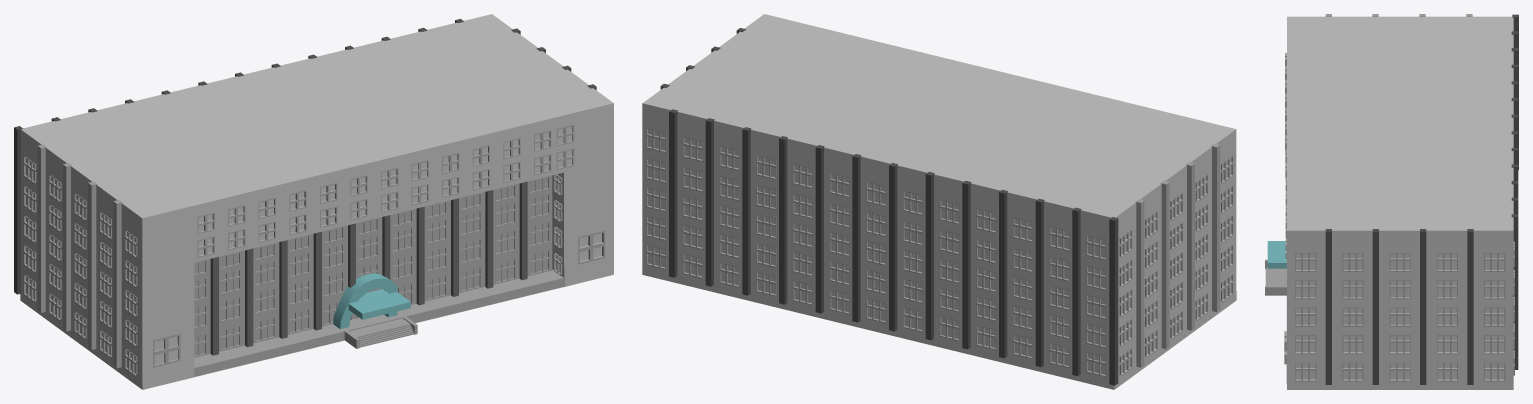
The model's file is 구도서관.fbx.
The picture shows the model from 3 angles, left to right: view 1: azimuth 30°, elevation 25°; view 2: azimuth 150°, elevation 25°; view 3: azimuth 270°, elevation 25°; orthographic projection. The views are drawn at different scales.
Visible parts, largest first — view 1: pCube35, pCube2, pCube19, pCube21, pCube18, pPipe1, pCube20, pCube1, pCube22, pCube42, pCube6, pCube12 (+8 smaller); view 2: pCube35, pCube22, pCube18, pCube29, pCube21, pCube23, pCube31, pCube20, pCube24, pCube28, pCube30, pCube32 (+6 smaller); view 3: pCube35, pCube14, pCube15, pCube16, pCube17, pCube34, pCube1, pCube42, pasted__pPlane660, pasted__pPlane661, pasted__pPlane662, pasted__pPlane663 (+16 smaller).
Boxes of the visible parts, <box> form: pCube35: <box>20,14,613,389</box>; pCube2: <box>194,175,563,376</box>; pCube19: <box>88,181,96,349</box>; pCube21: <box>37,144,46,312</box>; pCube18: <box>113,200,122,368</box>; pPipe1: <box>333,273,397,329</box>; pCube20: <box>63,163,71,331</box>; pCube1: <box>348,289,410,319</box>; pCube22: <box>14,126,23,294</box>; pCube42: <box>349,318,414,347</box>; pCube6: <box>313,231,321,330</box>; pCube12: <box>519,181,527,280</box>; pCube35: <box>642,14,1236,389</box>; pCube22: <box>1109,217,1118,385</box>; pCube18: <box>1211,143,1220,312</box>; pCube29: <box>852,154,861,322</box>; pCube21: <box>1135,199,1144,367</box>; pCube23: <box>1072,207,1081,375</box>; pCube31: <box>779,136,787,304</box>; pCube20: <box>1160,180,1169,349</box>; pCube24: <box>1035,198,1044,367</box>; pCube28: <box>889,163,897,331</box>; pCube30: <box>815,145,824,313</box>; pCube32: <box>742,127,751,295</box>; pCube35: <box>1286,16,1513,389</box>; pCube14: <box>1325,229,1331,384</box>; pCube15: <box>1372,229,1378,384</box>; pCube16: <box>1420,229,1426,384</box>; pCube17: <box>1467,229,1473,384</box>; pCube34: <box>1511,214,1518,369</box>; pCube1: <box>1267,241,1286,268</box>; pCube42: <box>1265,267,1286,285</box>; pasted__pPlane660: <box>1342,280,1363,299</box>; pasted__pPlane661: <box>1342,307,1363,326</box>; pasted__pPlane662: <box>1342,335,1363,354</box>; pasted__pPlane663: <box>1342,362,1363,381</box>.
Size of the model in its own units: 81.17 by 27.95 by 39.97.
